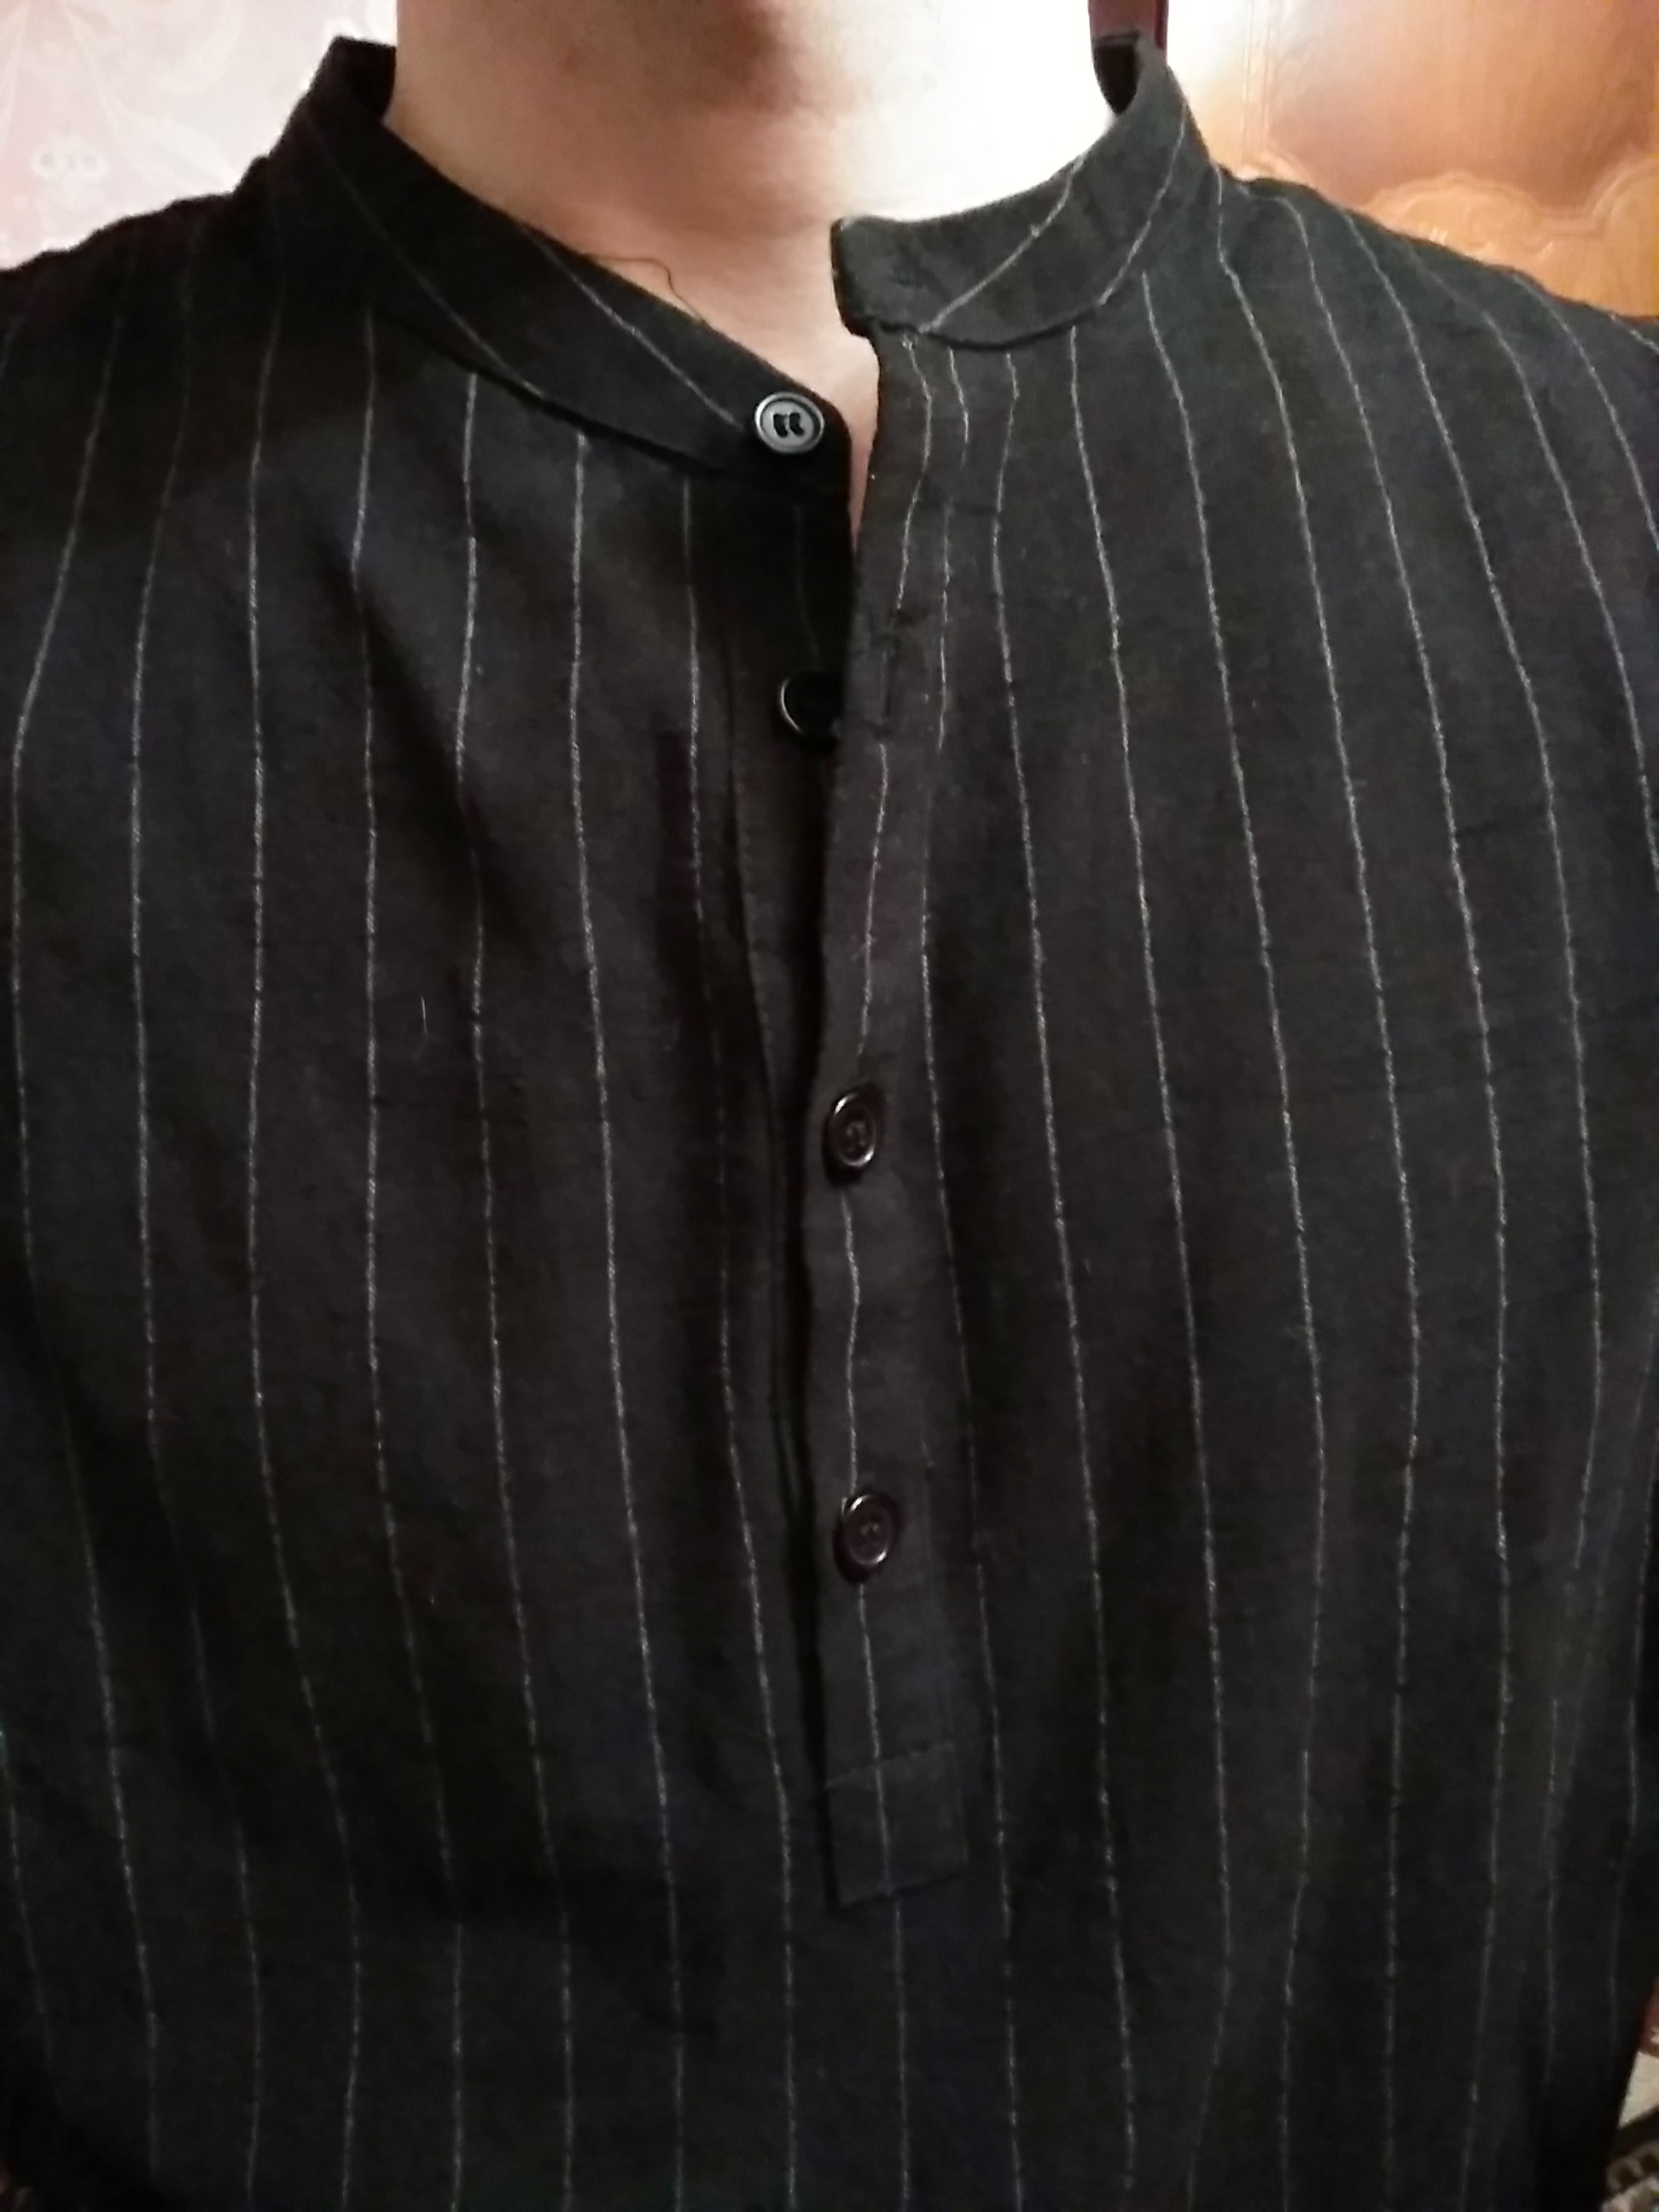shirts: (40, 33, 1659, 2188)
